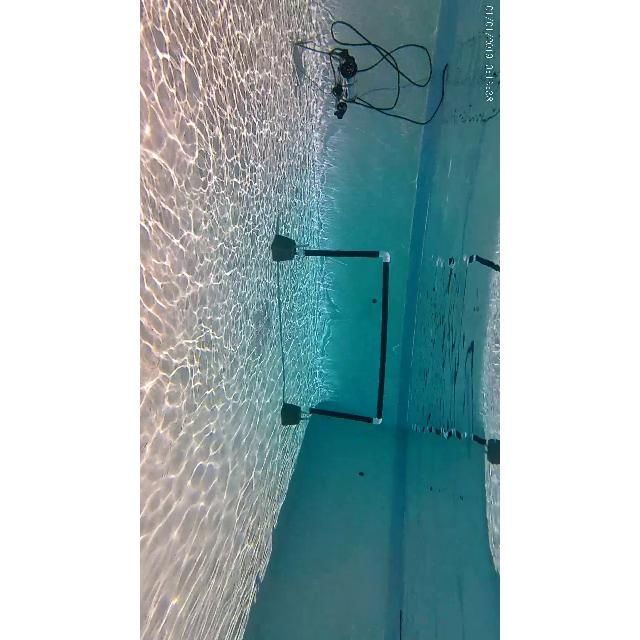prequal gate: (298, 250, 389, 424)
prequal gate leg l: (275, 230, 391, 264)
prequal gate leg r: (280, 404, 390, 436)
